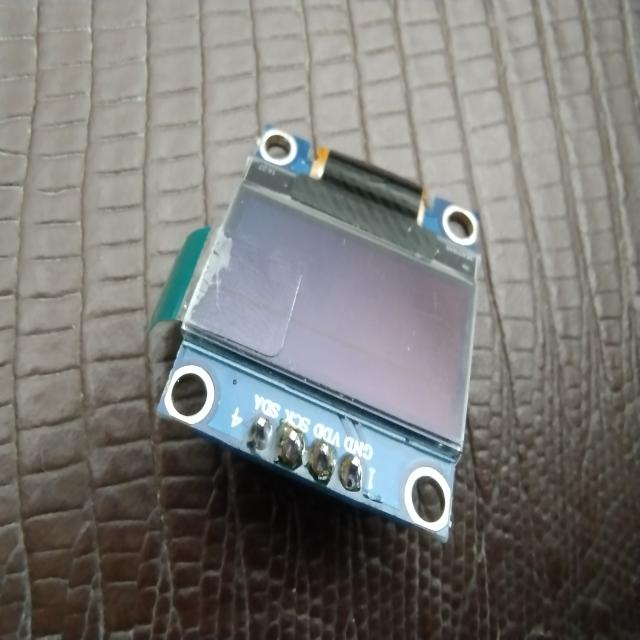oled: (142, 112, 493, 556)
